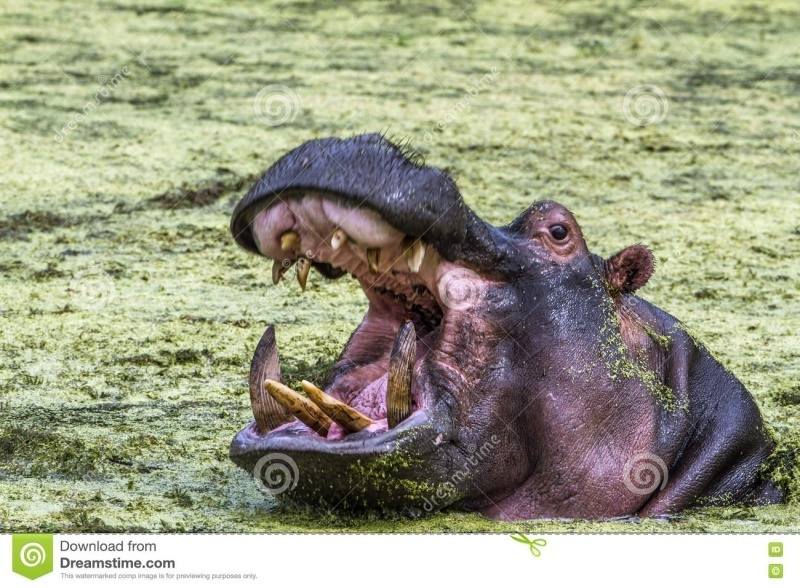hipopotamo: (204, 124, 788, 528)
